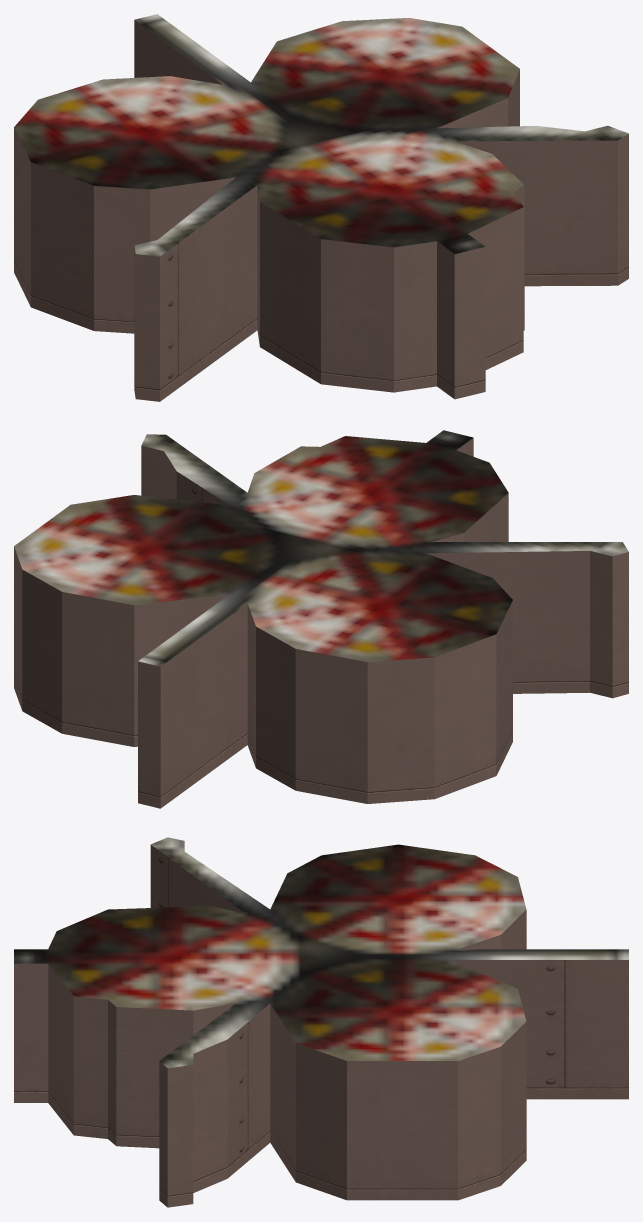
The model's file is fuel_tank_heavy_29.glb.
The picture shows the model from 3 angles, top to bottom: view 1: azimuth 30°, elevation 25°; view 2: azimuth 150°, elevation 25°; view 3: azimuth 270°, elevation 25°; orthographic projection. The views are drawn at different scales.
Visible parts, largest first — view 1: buildings/saxarba/fuel_tanks/fuel_tank_heavy_29; view 2: buildings/saxarba/fuel_tanks/fuel_tank_heavy_29; view 3: buildings/saxarba/fuel_tanks/fuel_tank_heavy_29.
Part boxes in pixels (box(x1,y1,x2,y2)): buildings/saxarba/fuel_tanks/fuel_tank_heavy_29: box(14, 14, 628, 401); buildings/saxarba/fuel_tanks/fuel_tank_heavy_29: box(14, 430, 628, 808); buildings/saxarba/fuel_tanks/fuel_tank_heavy_29: box(14, 837, 628, 1207).
Bounding box in the file's own units: 64 × 18 × 72.
